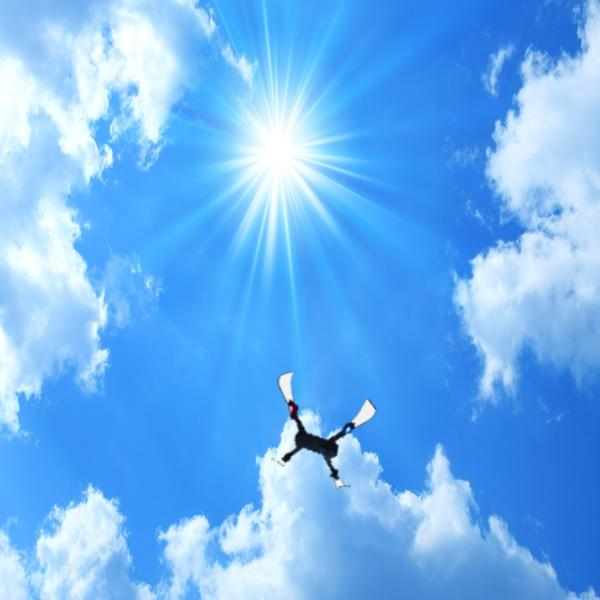drone: (262, 374, 379, 491)
